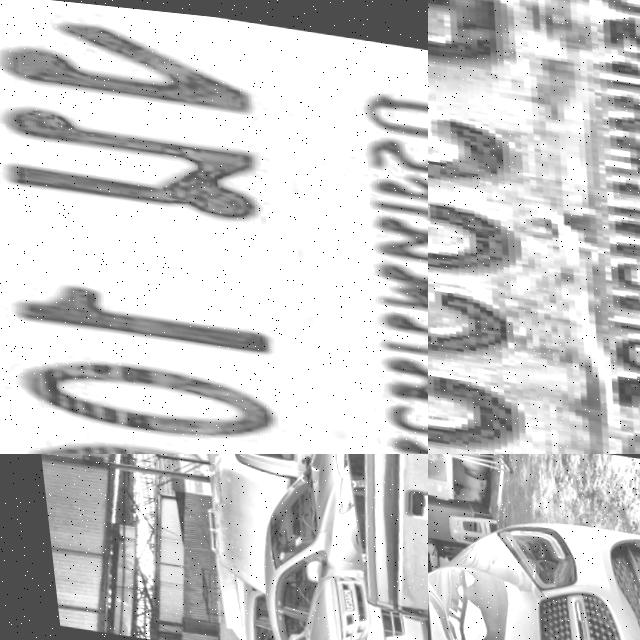license-plate: (0, 0, 428, 454), (428, 0, 640, 454)
